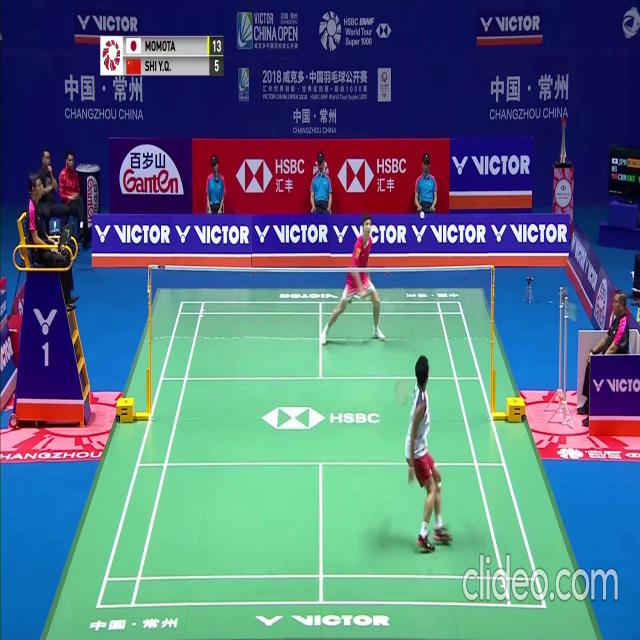Shuttlecock: (419, 210, 424, 218)
